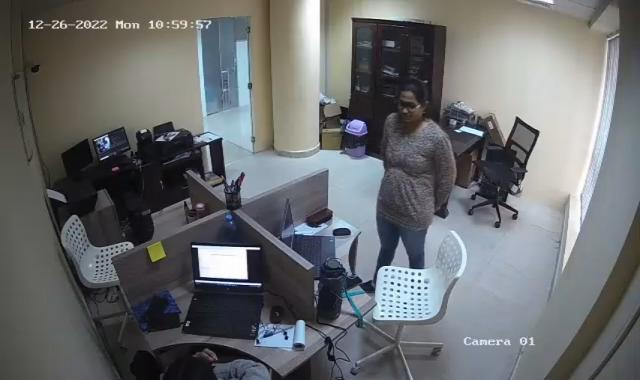no_hairnet: (394, 88, 423, 126)
